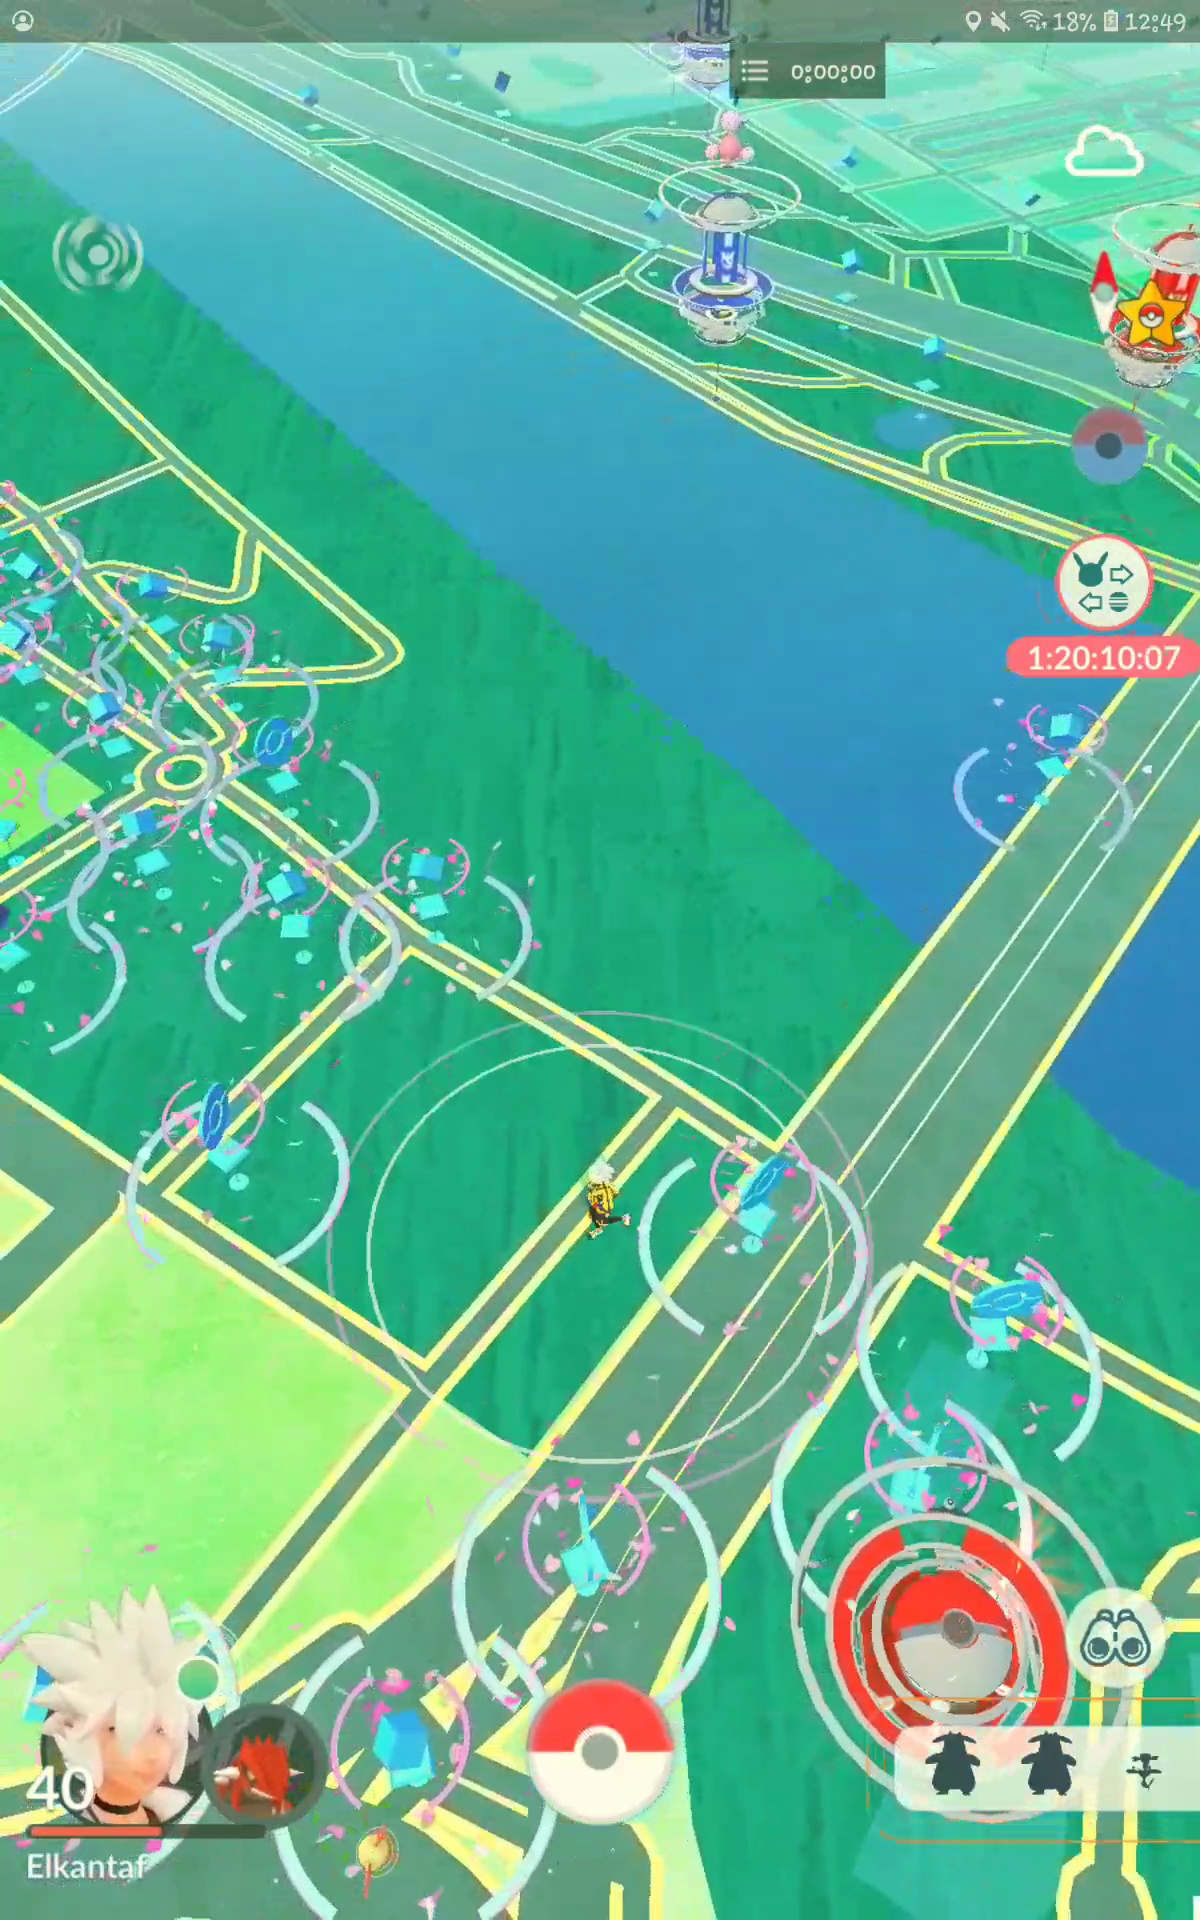Pokemon: (348, 1819, 401, 1901)
